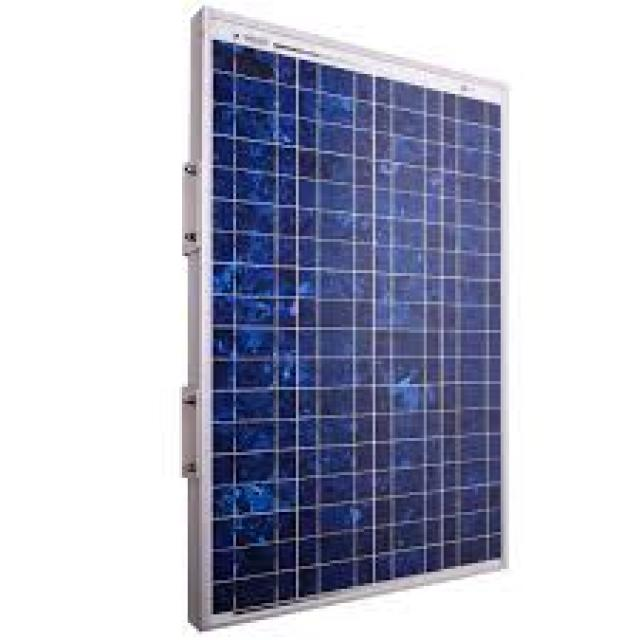no faulty: (213, 32, 507, 618)
